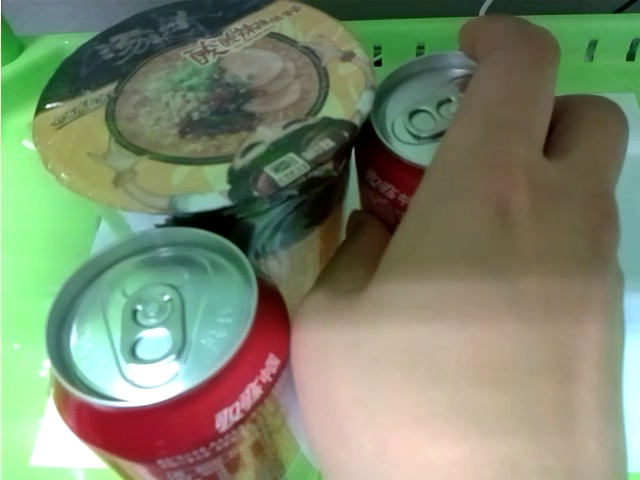cocacola: (35, 232, 305, 480), (363, 50, 492, 241)
noodles: (27, 1, 372, 281)
